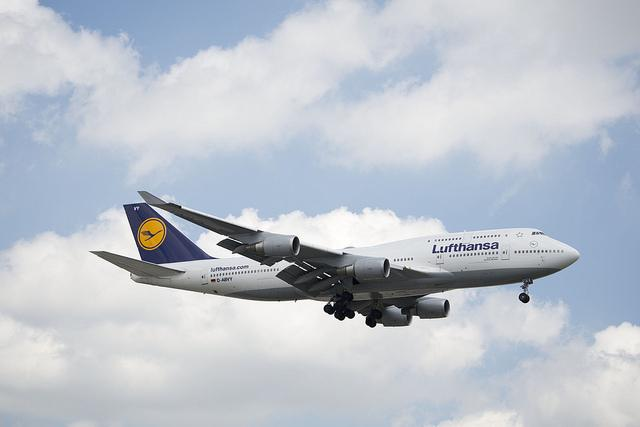airplane: (88, 188, 582, 329)
